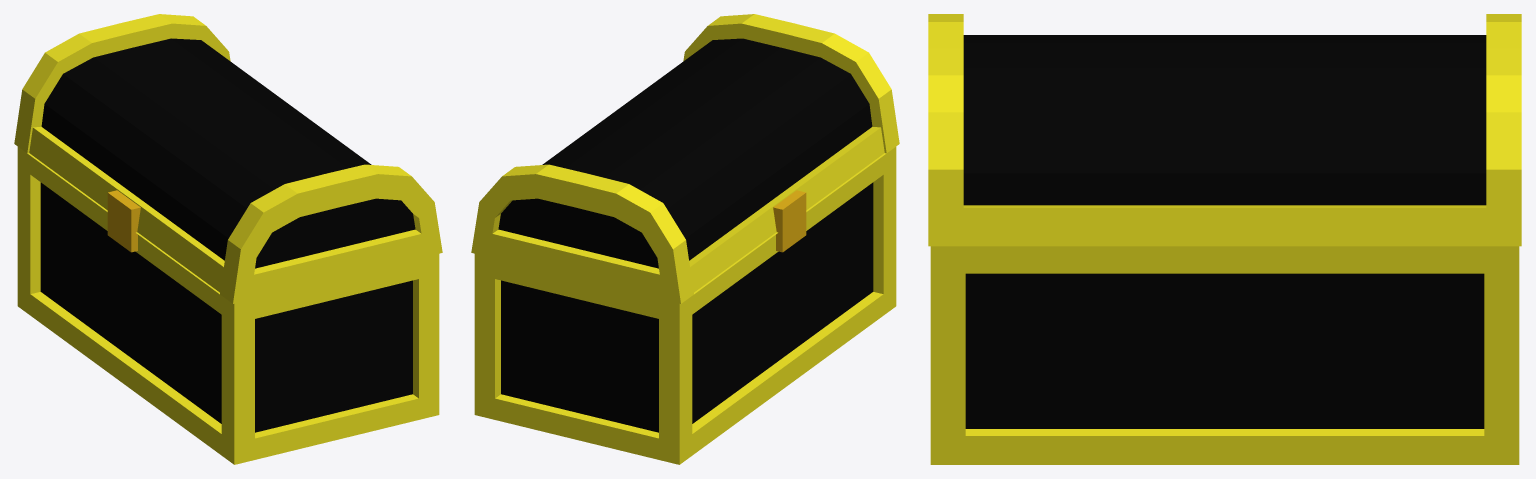
Rendered from treasureChest.fbx.
The picture shows the model from 3 angles, left to right: view 1: azimuth 30°, elevation 25°; view 2: azimuth 150°, elevation 25°; view 3: azimuth 270°, elevation 25°; orthographic projection. The views are drawn at different scales.
Parts seen in each view (by area): view 1: Box; view 2: Box; view 3: Box.
Part boxes in pixels (<box>): Box: <box>14,14,442,464</box>; Box: <box>471,14,899,464</box>; Box: <box>928,14,1521,464</box>.
Bounding box in the file's own units: 418 × 480 × 739.
